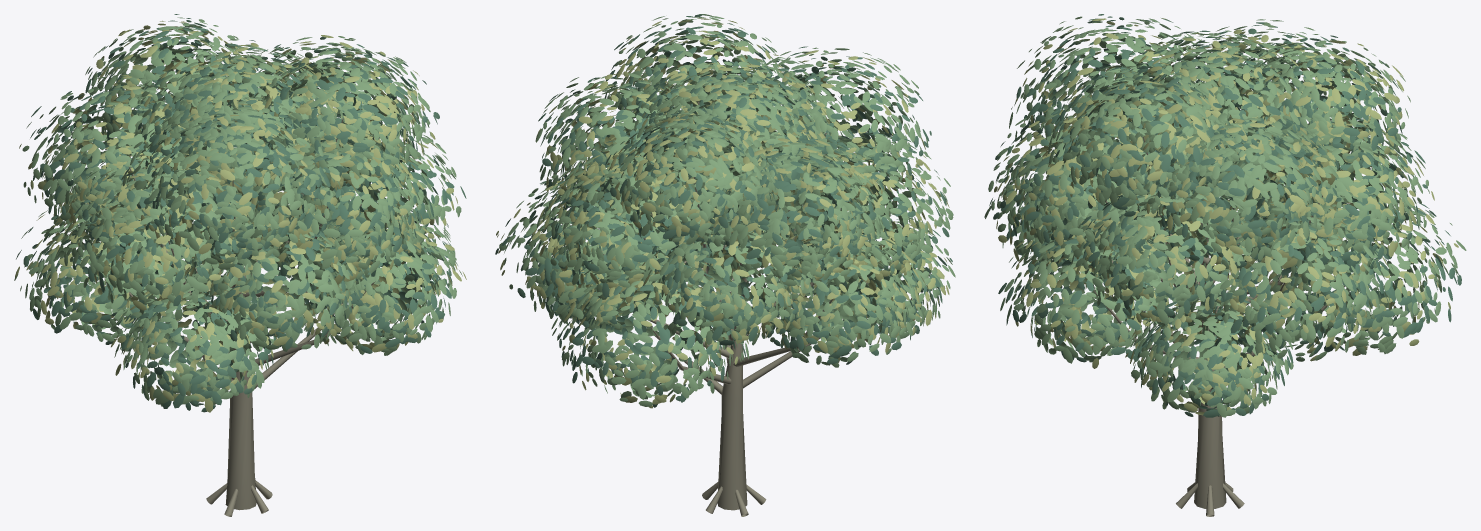
File: study_canopy_0.glb
3 renders of one model, left to right at view 1: azimuth 30°, elevation 25°; view 2: azimuth 150°, elevation 25°; view 3: azimuth 270°, elevation 25°, orthographic. The views are drawn at different scales.
Parts seen in each view (by area): view 1: study_canopy_0_StudyLeafJade, study_canopy_0_StudyLeafDeep, study_canopy_0_StudyLeafGold, study_canopy_0_StudyBark; view 2: study_canopy_0_StudyLeafJade, study_canopy_0_StudyLeafDeep, study_canopy_0_StudyLeafGold, study_canopy_0_StudyBark; view 3: study_canopy_0_StudyLeafJade, study_canopy_0_StudyLeafDeep, study_canopy_0_StudyLeafGold, study_canopy_0_StudyBark.
Boxes of the visible parts, <box> form: study_canopy_0_StudyLeafJade: <box>14,17,462,406</box>; study_canopy_0_StudyLeafDeep: <box>16,14,466,412</box>; study_canopy_0_StudyLeafGold: <box>15,20,466,412</box>; study_canopy_0_StudyBark: <box>127,118,375,516</box>; study_canopy_0_StudyLeafJade: <box>499,14,955,406</box>; study_canopy_0_StudyLeafDeep: <box>495,14,952,407</box>; study_canopy_0_StudyLeafGold: <box>496,18,949,408</box>; study_canopy_0_StudyBark: <box>598,102,871,516</box>; study_canopy_0_StudyLeafJade: <box>984,16,1466,417</box>; study_canopy_0_StudyLeafDeep: <box>989,14,1461,417</box>; study_canopy_0_StudyLeafGold: <box>994,18,1458,415</box>; study_canopy_0_StudyBark: <box>1093,108,1344,516</box>.
Size of the model in its own units: 9.49 by 10.17 by 9.51.
